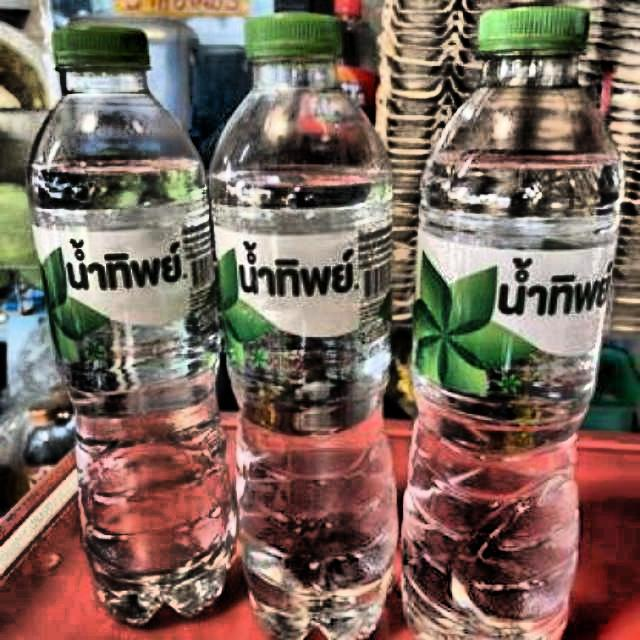Bottles: (24, 11, 244, 634), (405, 0, 620, 634), (223, 9, 406, 637)
